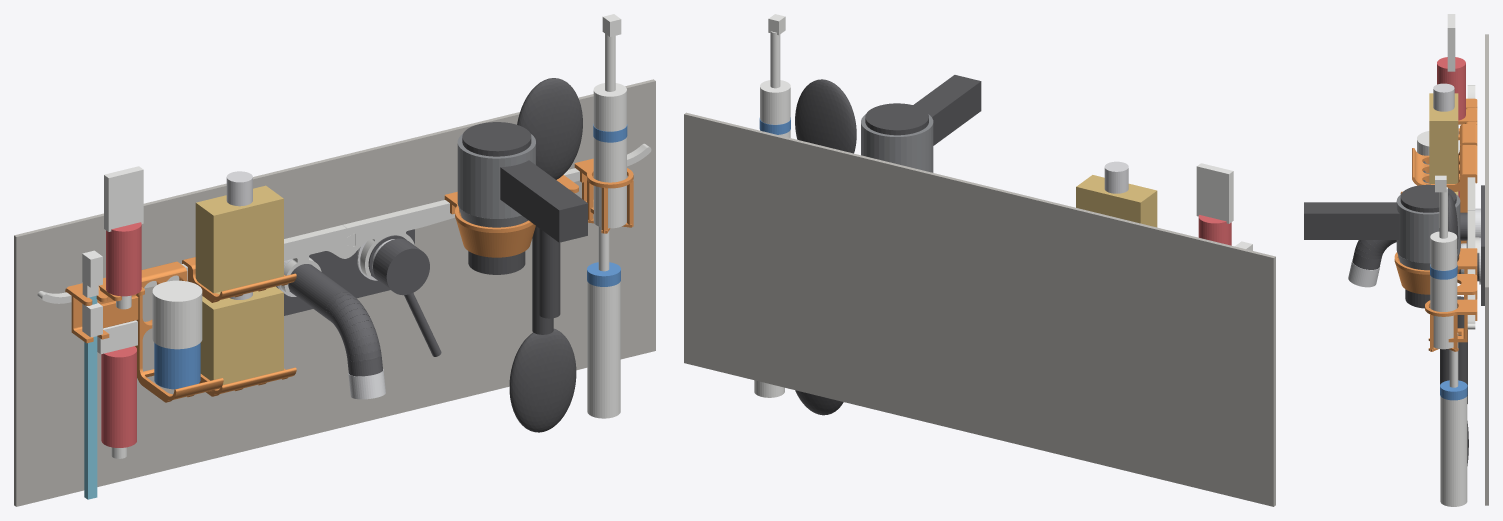
The model's file is bathroom_trazo_uso.glb.
The picture shows the model from 3 angles, left to right: view 1: azimuth 30°, elevation 25°; view 2: azimuth 150°, elevation 25°; view 3: azimuth 270°, elevation 25°; orthographic projection. The views are drawn at different scales.
Visible parts, largest first — view 1: pared, obj_colonia_0, objb_colonia_0, objb_pelo_1, cano, obj_pelo_1, obj_secador_4, objb_oralb_3, obj_oralb_0, obj_secador_2, objb_pasta_2, trazo_derecha (+23 smaller); view 2: pared, obj_pelo_1, obj_colonia_0, obj_secador_4, obj_secador_2, obj_pasta_2, obj_secador_3, obj_oralb_0, obj_pasta_1, obj_colonia_1, objb_pelo_1; view 3: obj_secador_4, objb_oralb_3, obj_oralb_0, obj_colonia_0, obj_secador_2, pared, jinete_colonia, jinete_secador, cano, obj_secador_3, obj_pasta_1, jinete_oralb (+19 smaller).
Boxes of the visible parts, x1,y1,x2,y2 form: pared: (14,79,655,506); obj_colonia_0: (195,185,283,293); objb_colonia_0: (200,286,283,384); objb_pelo_1: (509,328,576,432); cano: (288,264,382,376); obj_pelo_1: (517,78,582,179); obj_secador_4: (500,160,587,242); objb_oralb_3: (587,282,620,418); obj_oralb_0: (593,83,626,228); obj_secador_2: (457,134,535,218); objb_pasta_2: (101,346,136,447); trazo_derecha: (342,143,651,276); pared: (684,112,1275,506); obj_pelo_1: (795,79,856,153); obj_colonia_0: (1076,175,1157,227); obj_secador_4: (913,75,981,145); obj_secador_2: (861,114,933,172); obj_pasta_2: (1196,163,1233,223); obj_secador_3: (865,103,928,135); obj_oralb_0: (760,80,790,137); obj_pasta_1: (1198,215,1231,245); obj_colonia_1: (1104,161,1128,193); objb_pelo_1: (795,390,843,415); obj_secador_4: (1304,202,1399,239); objb_oralb_3: (1440,396,1467,506); obj_oralb_0: (1430,231,1457,349); obj_colonia_0: (1429,93,1458,183); obj_secador_2: (1396,194,1460,263); pared: (1485,34,1488,505); jinete_colonia: (1412,145,1477,191); jinete_secador: (1394,248,1477,294); cano: (1352,212,1467,269); obj_secador_3: (1400,184,1456,212); obj_pasta_1: (1437,57,1465,120); jinete_oralb: (1425,299,1477,351).
Size of the model in its own units: 0.62 by 0.378 by 0.1915.
